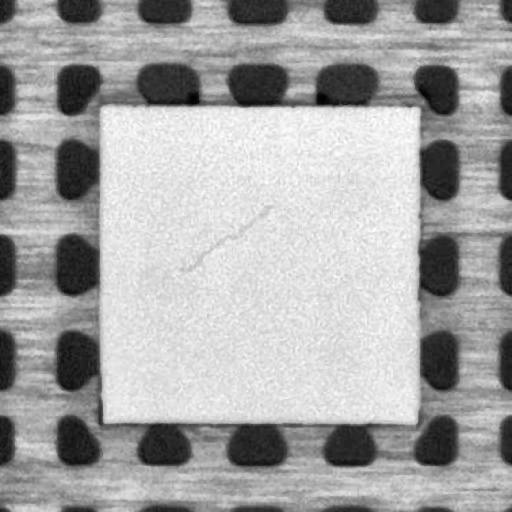DIE_CRACK: (174, 206, 276, 274)
